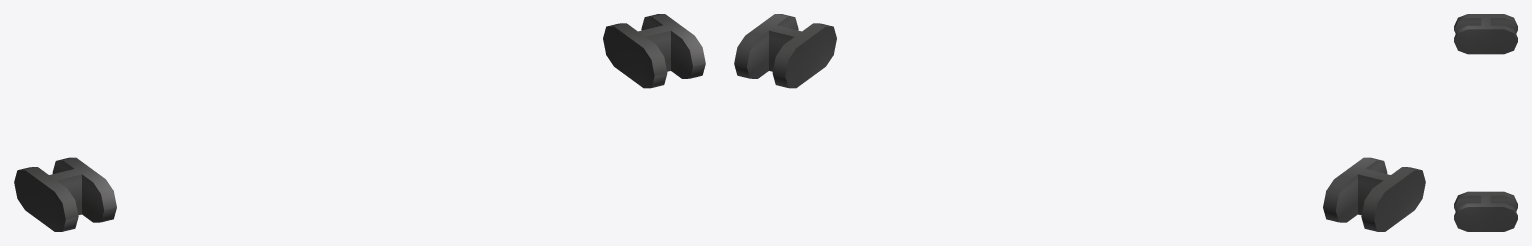
The model's file is 4mv_solar_srf_1_hinge.obj.
3 views of the same model, side by side, from view 1: azimuth 30°, elevation 25°; view 2: azimuth 150°, elevation 25°; view 3: azimuth 270°, elevation 25° (orthographic). The views are drawn at different scales.
Parts seen in each view (by area): view 1: hinge1; view 2: hinge1; view 3: hinge1.
Part boxes in pixels (bbox=[...]): hinge1: bbox=[14, 14, 705, 231]; hinge1: bbox=[734, 14, 1425, 231]; hinge1: bbox=[1454, 14, 1517, 231].
Bounding box in the file's own units: 0.625 × 0.0375 × 0.0875.
